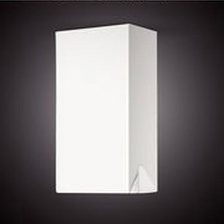carton: (46, 18, 170, 201)
